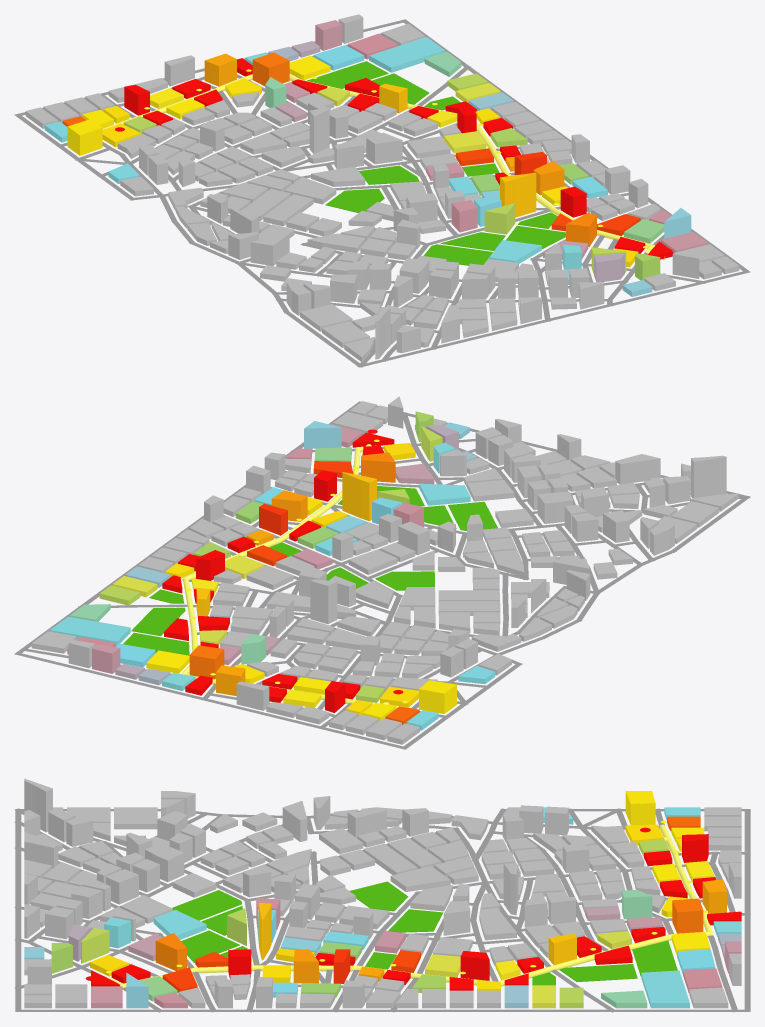
File: urban_geo.glb
3 renders of one model, top to bottom at view 1: azimuth 30°, elevation 25°; view 2: azimuth 150°, elevation 25°; view 3: azimuth 270°, elevation 25°, orthographic. The views are drawn at different scales.
Visible parts, largest first — view 1: buildings (×57), road, parks (×7), path; view 2: buildings (×47), road, parks (×4), path; view 3: buildings (×137), road, parks (×7), path.
Boxes of the visible parts, bbox=[...] form: buildings (×57): bbox=[67, 20, 707, 359]; road: bbox=[14, 19, 750, 367]; parks (×7): bbox=[307, 61, 565, 265]; path: bbox=[102, 74, 654, 253]; buildings (×47): bbox=[31, 412, 726, 713]; road: bbox=[14, 401, 750, 749]; parks (×4): bbox=[123, 501, 497, 655]; path: bbox=[181, 445, 410, 708]; buildings (×137): bbox=[24, 778, 741, 1008]; road: bbox=[14, 808, 750, 1012]; parks (×7): bbox=[172, 881, 677, 981]; path: bbox=[108, 824, 713, 987].
Size of the model in its own units: 805 by 80 by 1227.
